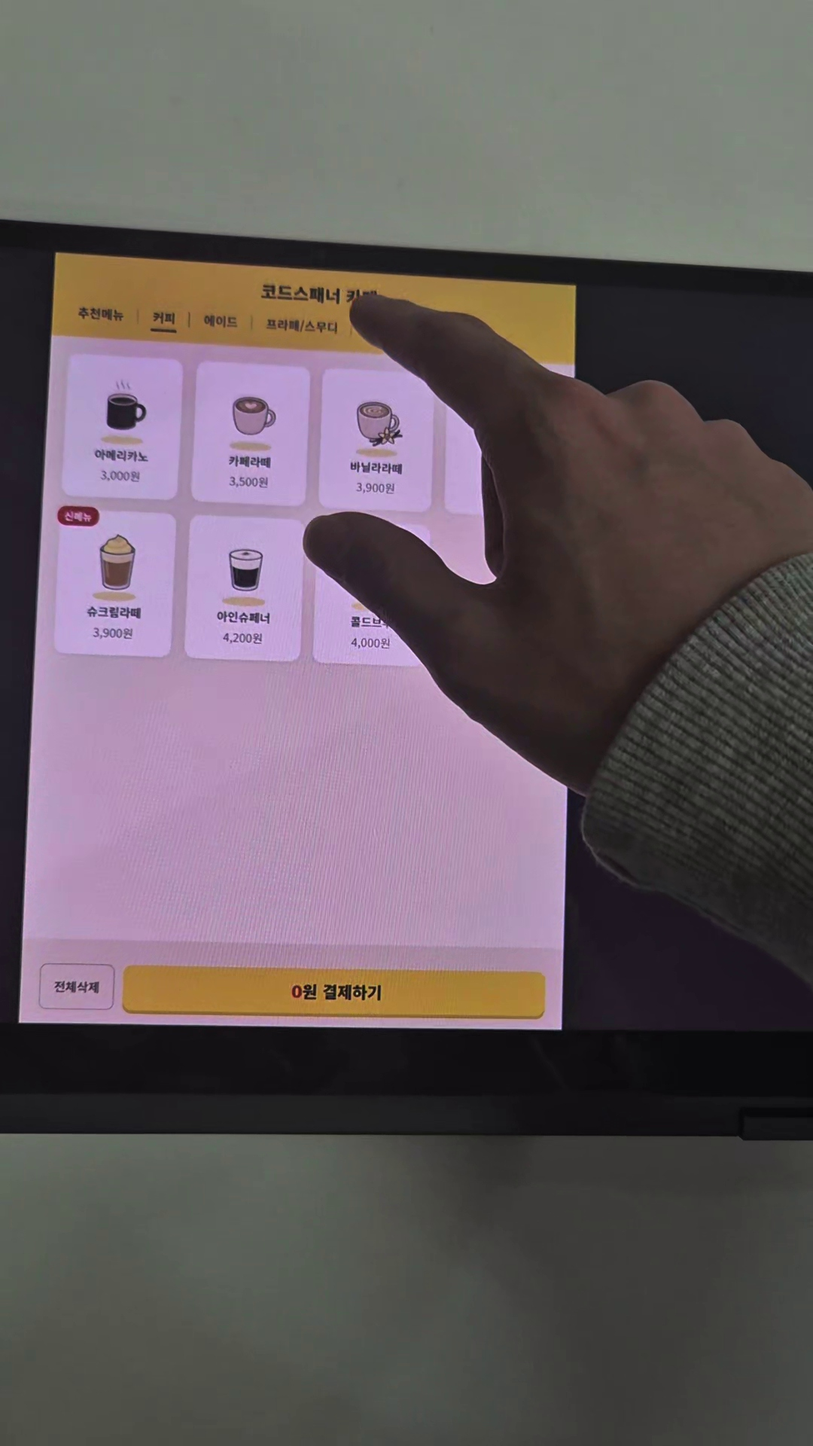action_button: (183, 959, 565, 1007), (99, 957, 168, 999)
cart_item: (101, 899, 568, 955)
category_tab: (264, 317, 340, 335), (76, 304, 126, 325), (201, 312, 240, 329), (150, 309, 178, 326)
menu_back: (190, 361, 311, 507), (62, 355, 183, 500), (112, 531, 225, 673), (233, 540, 344, 677), (352, 546, 461, 681), (319, 375, 427, 510), (474, 409, 579, 543)
menu_name: (93, 447, 150, 463), (349, 460, 405, 476), (140, 623, 195, 639), (261, 627, 315, 643), (228, 453, 273, 470), (385, 631, 427, 648), (506, 495, 547, 509)
menu_price: (228, 475, 270, 490), (145, 643, 187, 658), (100, 468, 141, 483), (355, 481, 397, 495), (506, 513, 545, 528), (267, 648, 307, 662), (387, 653, 426, 666)
